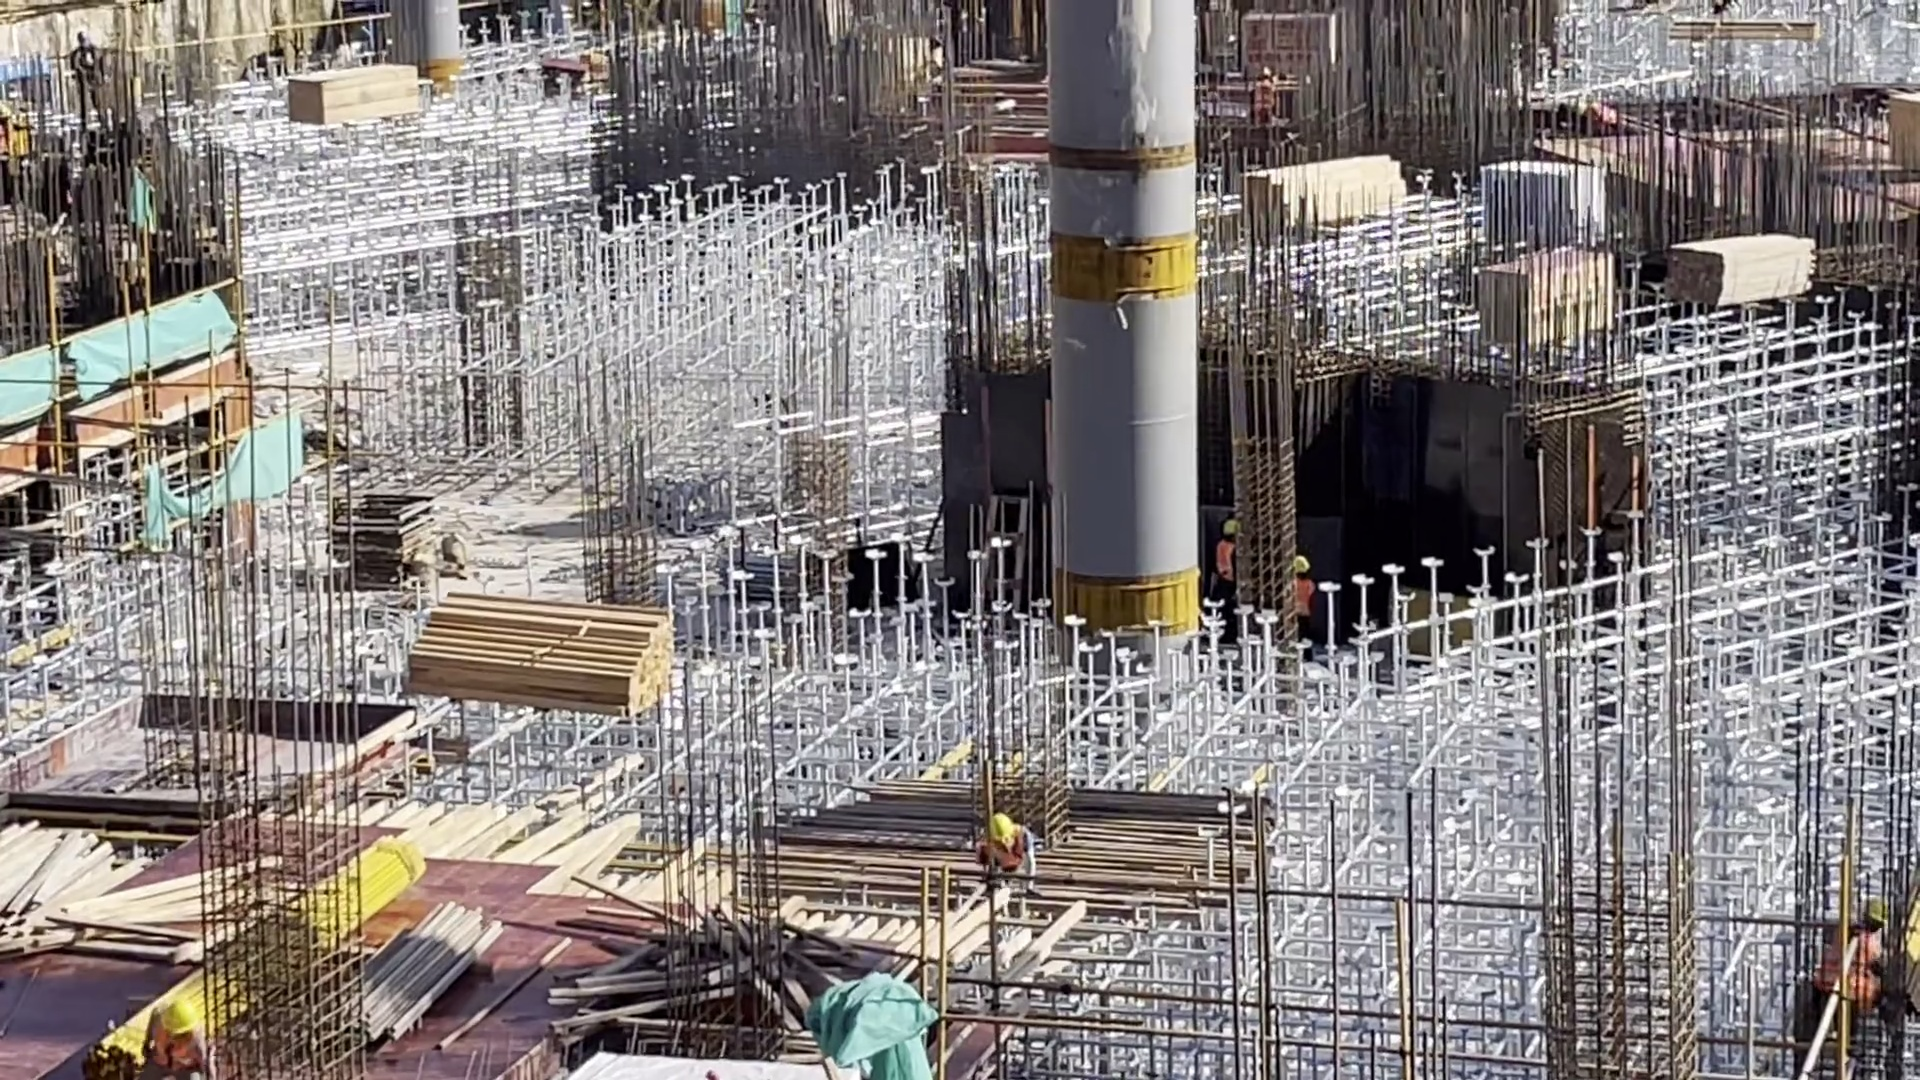person: (1828, 897, 1892, 1026), (985, 807, 1043, 893), (1288, 549, 1316, 645), (1212, 515, 1242, 592)
rebar: (783, 760, 1250, 911)
wood: (405, 597, 669, 720), (1242, 155, 1407, 229), (1484, 248, 1610, 341), (289, 63, 422, 128), (1671, 241, 1815, 299)
